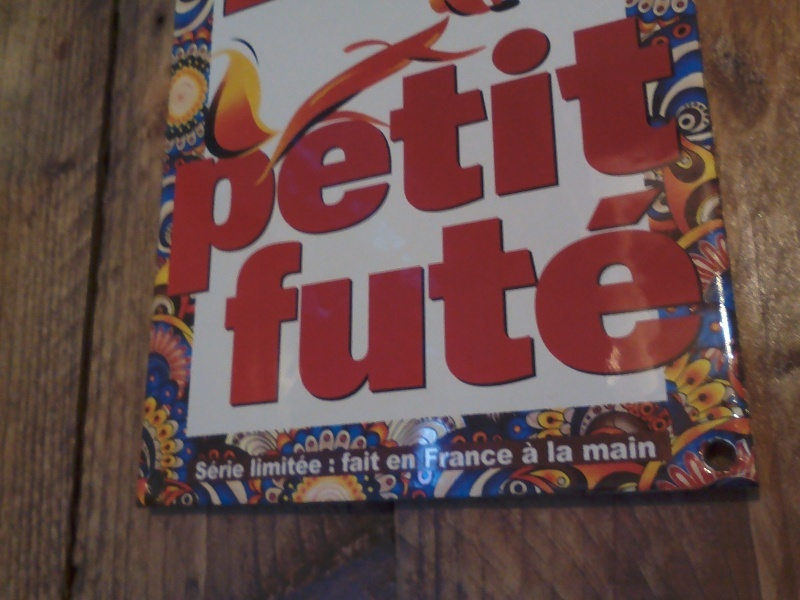text: (177, 2, 192, 312), (193, 2, 208, 312), (209, 2, 224, 312), (225, 2, 240, 312), (241, 2, 256, 312), (257, 2, 272, 312), (273, 2, 288, 312), (289, 2, 304, 312), (305, 2, 320, 312), (321, 2, 336, 312), (337, 2, 352, 312), (353, 2, 368, 312), (369, 2, 384, 312), (385, 2, 400, 312), (401, 2, 416, 312), (417, 2, 432, 312), (433, 2, 448, 312), (449, 2, 464, 312), (465, 2, 480, 312), (481, 2, 496, 312), (497, 2, 512, 312), (513, 2, 528, 312), (529, 2, 544, 312), (545, 2, 560, 312), (561, 2, 576, 312), (577, 2, 592, 312), (593, 2, 608, 312), (609, 2, 624, 312), (625, 2, 640, 312), (641, 2, 656, 312), (657, 2, 672, 312), (673, 2, 688, 312), (225, 167, 240, 410), (241, 167, 256, 410), (257, 167, 272, 410), (273, 167, 288, 410), (289, 167, 304, 410), (305, 167, 320, 410), (321, 167, 336, 410), (337, 167, 352, 410), (353, 167, 368, 410), (369, 167, 384, 410), (385, 167, 400, 410), (401, 167, 416, 410), (417, 167, 432, 410), (433, 167, 448, 410), (449, 167, 464, 410), (465, 167, 480, 410), (481, 167, 496, 410), (497, 167, 512, 410), (513, 167, 528, 410), (529, 167, 544, 410), (545, 167, 560, 410), (561, 167, 576, 410), (577, 167, 592, 410), (593, 167, 608, 410), (609, 167, 624, 410), (625, 167, 640, 410), (641, 167, 656, 410), (657, 167, 672, 410), (673, 167, 688, 410), (689, 167, 704, 410), (218, 167, 224, 410), (705, 167, 711, 410), (593, 436, 608, 465), (609, 436, 624, 465), (625, 436, 640, 465), (641, 436, 656, 465), (193, 458, 208, 483), (209, 458, 224, 483), (225, 458, 240, 483), (433, 445, 448, 470), (449, 445, 464, 470), (465, 445, 480, 470), (481, 445, 496, 470), (497, 445, 512, 470), (545, 439, 560, 464), (257, 454, 272, 477), (273, 454, 288, 477), (289, 454, 304, 477), (305, 454, 320, 477), (353, 451, 368, 474), (529, 439, 541, 467), (561, 439, 574, 464), (175, 2, 176, 312), (689, 2, 690, 312), (385, 452, 400, 472), (401, 452, 416, 472), (582, 436, 592, 465), (369, 451, 381, 474), (341, 451, 352, 474), (424, 445, 432, 470), (522, 439, 528, 467), (328, 457, 336, 475), (241, 458, 246, 483), (251, 454, 256, 477), (321, 454, 324, 477), (657, 436, 659, 465), (513, 445, 514, 470), (417, 452, 418, 472)
